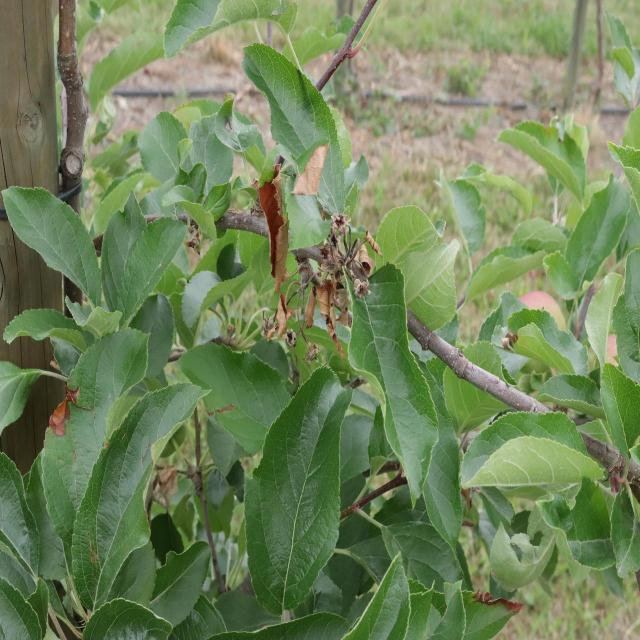-FireBlight-: (260, 168, 301, 290)
